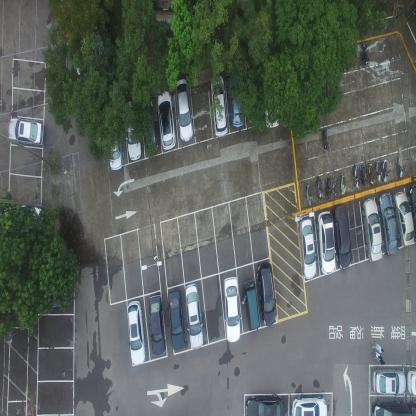car: (361, 197, 383, 261), (256, 260, 276, 326), (378, 191, 398, 256), (185, 282, 204, 350), (127, 300, 146, 367), (174, 78, 193, 144), (222, 275, 240, 343), (333, 205, 352, 269), (392, 191, 414, 246), (157, 89, 176, 150), (210, 73, 228, 137), (7, 116, 44, 147), (317, 211, 335, 274), (149, 292, 166, 356), (372, 366, 406, 396), (168, 288, 184, 350), (300, 217, 316, 279), (263, 72, 280, 130), (107, 113, 124, 170), (125, 101, 141, 160), (40, 280, 72, 309), (144, 95, 160, 153), (229, 71, 244, 130), (245, 394, 284, 416), (243, 279, 259, 330), (292, 394, 327, 416), (372, 401, 412, 415), (408, 184, 415, 230), (407, 368, 416, 396)
